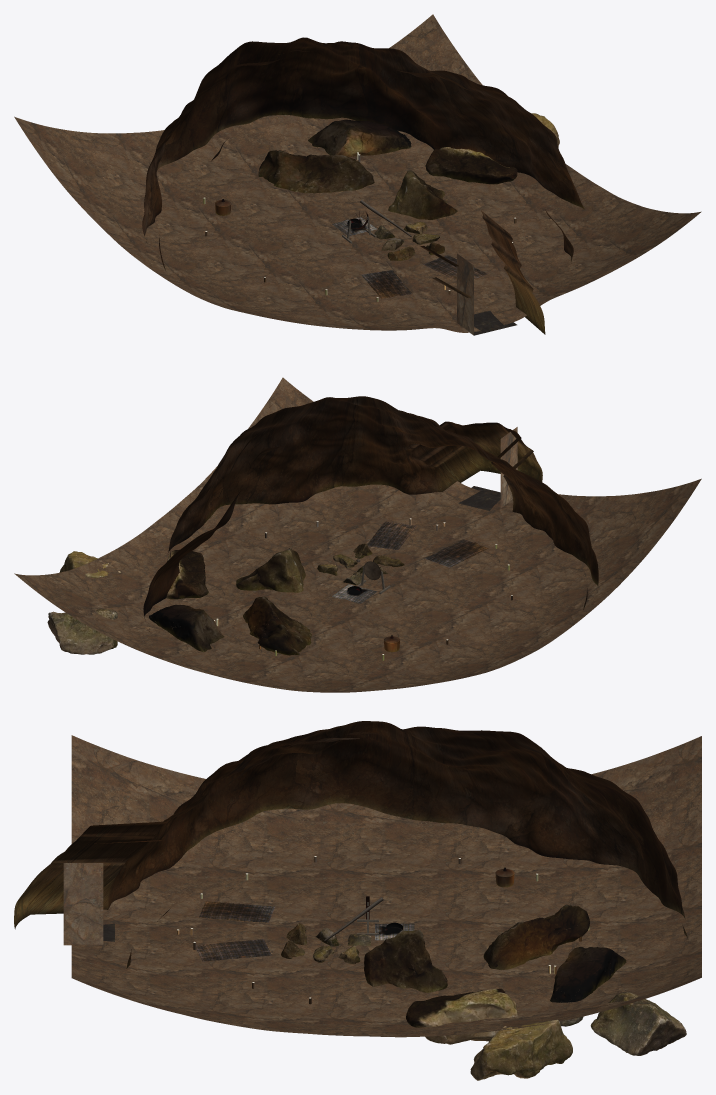
Rendered from room.gltf.
3 views of the same model, one above another, from view 1: azimuth 30°, elevation 25°; view 2: azimuth 150°, elevation 25°; view 3: azimuth 270°, elevation 25° (orthographic). The views are drawn at different scales.
Parts seen in each view (by area): view 1: prop_sand2, prop_rock, prop_rock_moss_set_01_1.001, prop_rock_moss_set_01_2.001, prop_rock_moss_set_01_5.001, prop_rock_moss_set_01_4.001, prop_wool, shell_rock, shell_rock2; view 2: prop_sand2, prop_rock, prop_rock_moss_set_01_1.001, prop_wool, prop_rock_moss_set_01_2.001, prop_rock_moss_set_01_3.001, prop_rock_moss_set_01_4.001, prop_rock_moss_set_01_5.001, shell_rock, shell_rock2, prop_rock_moss_set_01_6.001; view 3: prop_sand2, prop_rock, prop_rock_moss_set_01_6.001, prop_rock_moss_set_01_1.001, prop_rock_moss_set_01_3.001, prop_rock_moss_set_01_5.001, prop_rock_moss_set_01_4.001, shell_rock, prop_wool, prop_rock_moss_set_01_2.001.
Boxes of the visible parts, bbox=[...] form: prop_sand2: bbox=[14, 14, 701, 332]; prop_rock: bbox=[142, 37, 584, 334]; prop_rock_moss_set_01_1.001: bbox=[258, 150, 374, 193]; prop_rock_moss_set_01_2.001: bbox=[308, 119, 411, 156]; prop_rock_moss_set_01_5.001: bbox=[425, 147, 517, 184]; prop_rock_moss_set_01_4.001: bbox=[388, 170, 457, 219]; prop_wool: bbox=[332, 217, 487, 298]; shell_rock: bbox=[457, 253, 473, 335]; shell_rock2: bbox=[474, 310, 516, 335]; prop_sand2: bbox=[14, 377, 701, 692]; prop_rock: bbox=[143, 396, 598, 631]; prop_rock_moss_set_01_1.001: bbox=[243, 596, 311, 655]; prop_wool: bbox=[332, 521, 488, 603]; prop_rock_moss_set_01_2.001: bbox=[149, 604, 224, 652]; prop_rock_moss_set_01_3.001: bbox=[47, 609, 117, 654]; prop_rock_moss_set_01_4.001: bbox=[236, 548, 305, 592]; prop_rock_moss_set_01_5.001: bbox=[166, 549, 208, 599]; shell_rock: bbox=[500, 427, 517, 508]; shell_rock2: bbox=[458, 486, 500, 510]; prop_rock_moss_set_01_6.001: bbox=[59, 551, 120, 578]; prop_sand2: bbox=[71, 735, 701, 1037]; prop_rock: bbox=[14, 721, 687, 968]; prop_rock_moss_set_01_6.001: bbox=[470, 1019, 572, 1080]; prop_rock_moss_set_01_1.001: bbox=[483, 904, 589, 969]; prop_rock_moss_set_01_3.001: bbox=[590, 992, 686, 1055]; prop_rock_moss_set_01_5.001: bbox=[406, 988, 517, 1044]; prop_rock_moss_set_01_4.001: bbox=[364, 930, 447, 992]; shell_rock: bbox=[63, 863, 103, 945]; prop_wool: bbox=[196, 901, 414, 961]; prop_rock_moss_set_01_2.001: bbox=[550, 947, 626, 1026].
Size of the model in its own units: 15.6 by 6.04 by 17.46.
Materials: 16 (16 with a texture image).
